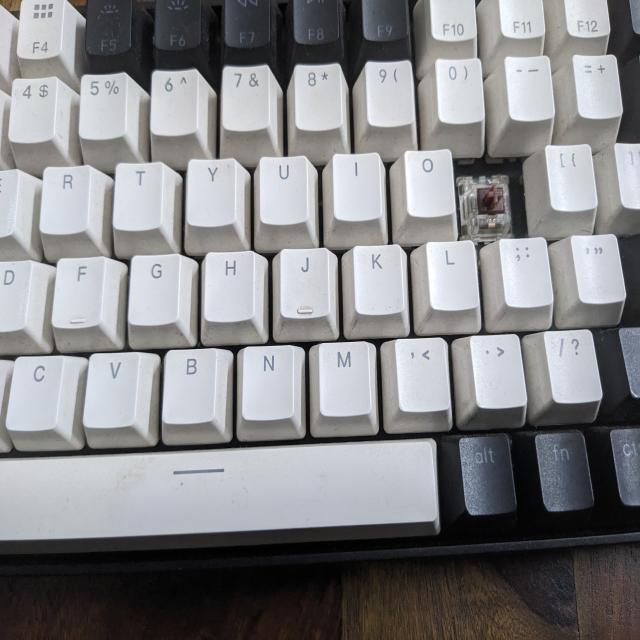C: (459, 171, 512, 236)
